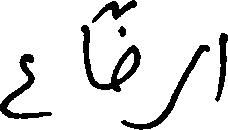X: (112, 0, 140, 129), (0, 49, 35, 123), (157, 70, 182, 129), (184, 40, 205, 88), (216, 28, 227, 106), (81, 20, 91, 89)
